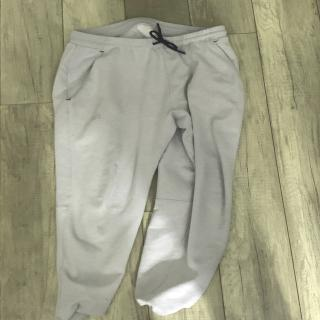White Sweatpants: (49, 18, 245, 320)
